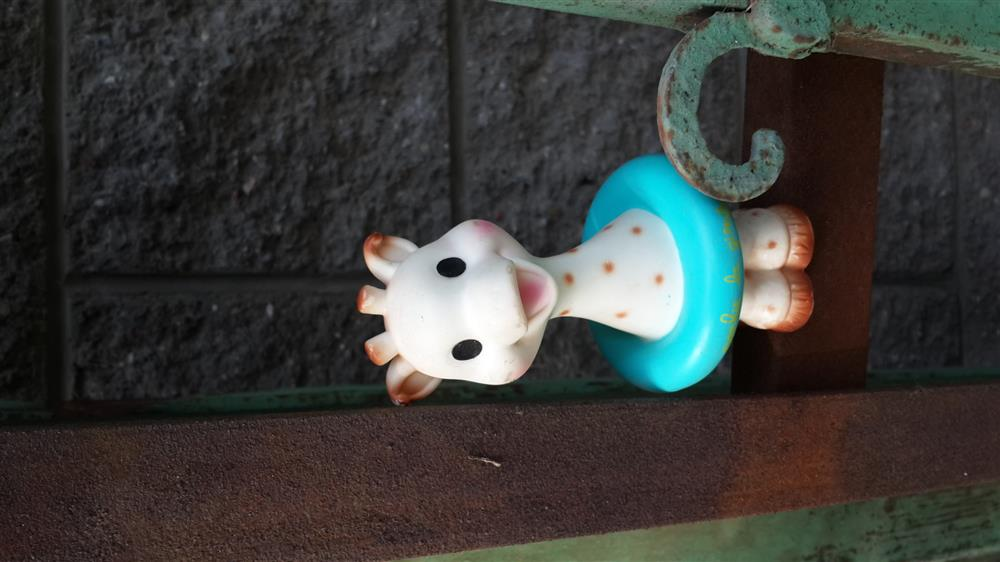toy_deer: (340, 142, 834, 406)
